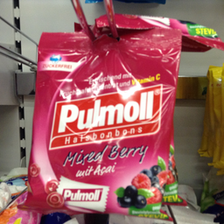candy: (33, 31, 174, 218)
